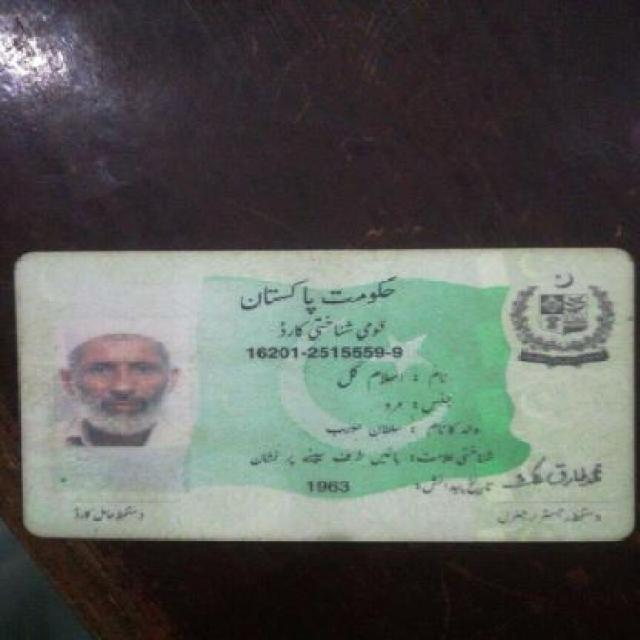Front: (9, 242, 637, 544)
